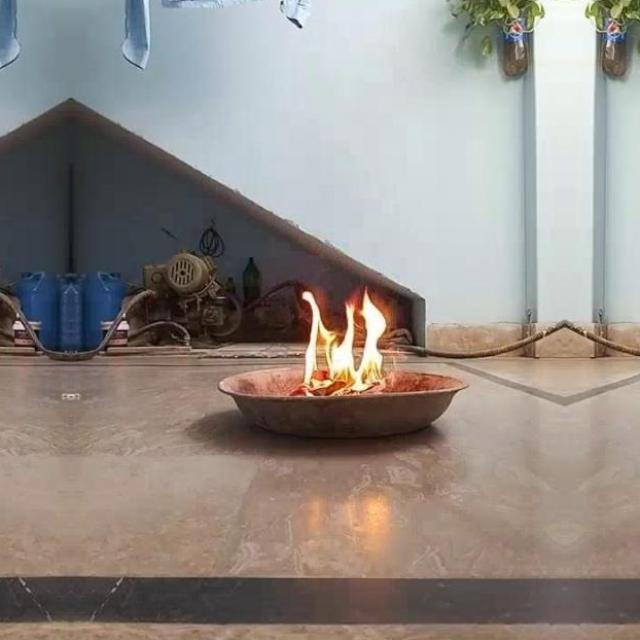smoke: (289, 284, 388, 394)
